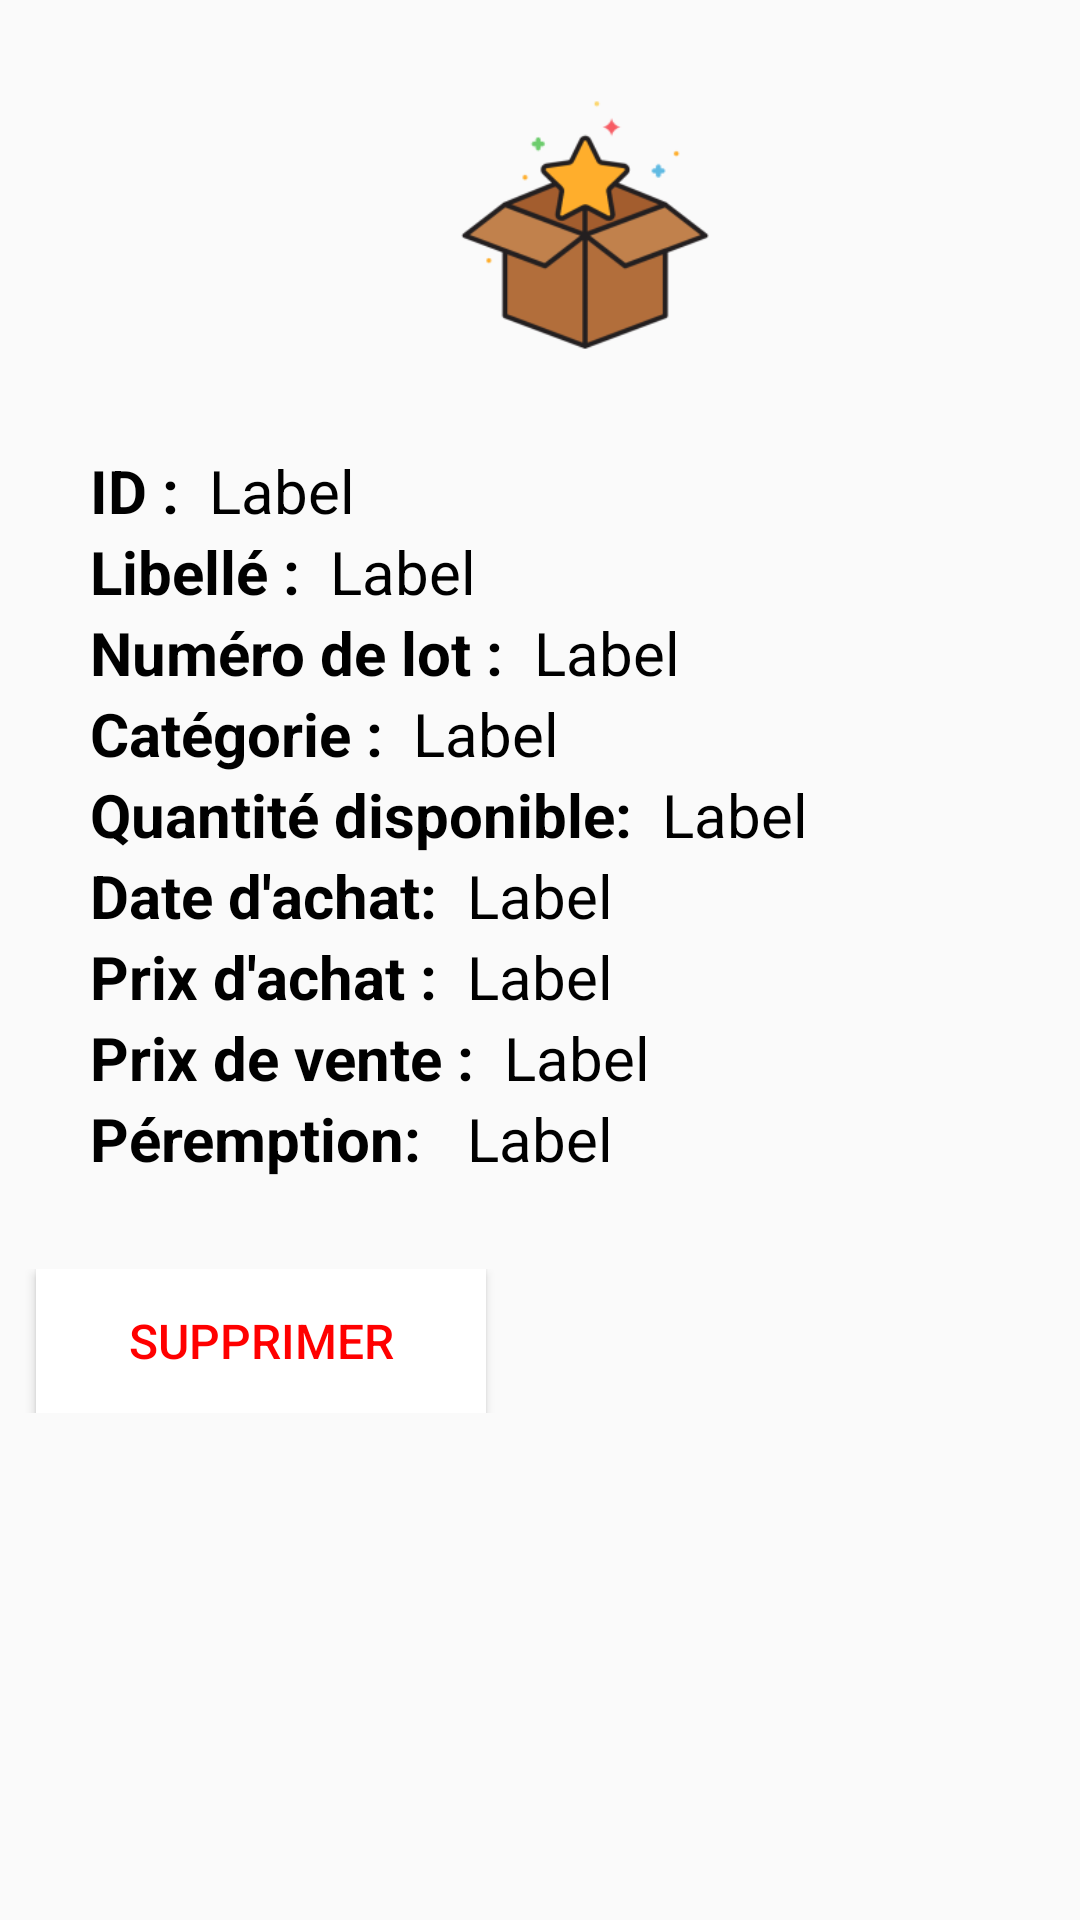

Icon click points for this 1080px×1920px phone screenshot, format point (x, y):
product: point (585, 225)
